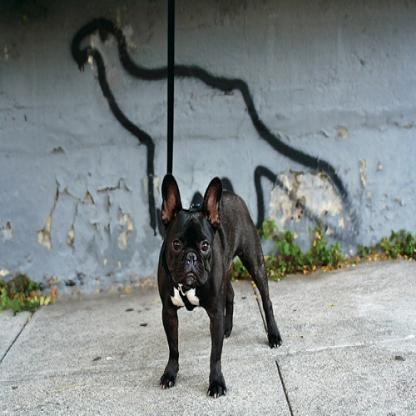French_bulldog: (155, 170, 282, 400)
